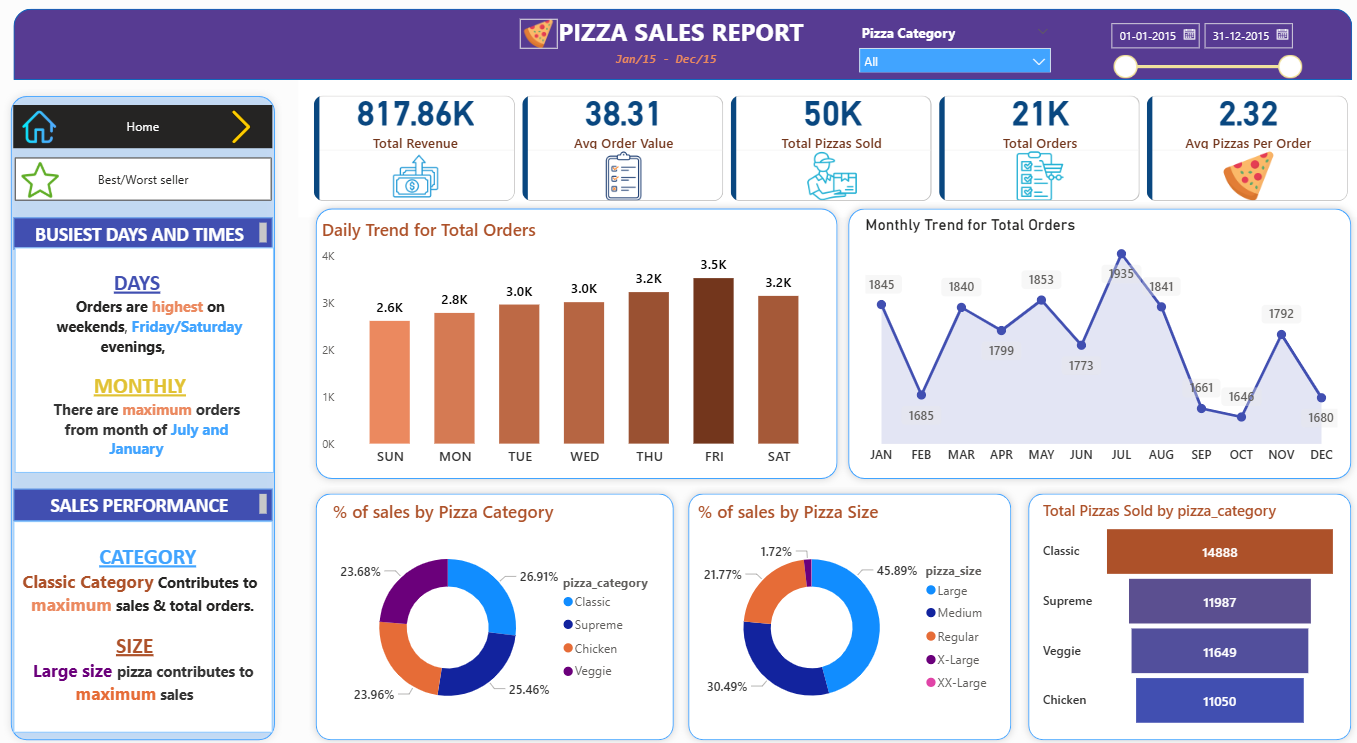

This screenshot's page, from the dashboard's own definition file:
{"tool":"powerbi","page":{"name":"Home","canvas":[1500,820],"ordinal":0},"visuals":[{"type":"cardVisual","fields":{"Data":["pizza_sales.Total Revenue","pizza_sales.Avg Order Value","pizza_sales.Total Pizzas Sold","pizza_sales.Total Orders","pizza_sales.Avg Pizzas Per Order"]},"box":[335.2,92.7,1165.1,149.9],"z":0},{"type":"shape","box":[13.6,102.2,303.9,718.1],"z":1000},{"type":"shape","box":[24.5,15,1459.4,77.7],"z":2000},{"type":"textbox","box":[24.5,242.6,282.1,35.4],"z":3000},{"type":"textbox","box":[607.7,16.4,288.9,53.1],"z":4000},{"type":"textbox","box":[675.9,54.5,121.3,30],"z":5000},{"type":"image","box":[576.4,25.9,40.9,32.7],"z":6000},{"type":"shape","box":[346.1,224.8,584.6,310.7],"z":7000},{"type":"columnChart","title":"Daily Trend for Total Orders","fields":{"Y":["pizza_sales.Total Orders"],"Category":["pizza_sales.Order Day"]},"box":[355.7,242.6,560,280.7],"z":8000},{"type":"shape","box":[926.6,224.8,564.1,310.7],"z":9000},{"type":"areaChart","title":"Monthly Trend for Total Orders","fields":{"Category":["pizza_sales.Order Month"],"Y":["pizza_sales.Total Orders"]},"box":[948.4,239.8,524.6,280.7],"z":10000},{"type":"shape","box":[346.1,535.5,406.1,284.8],"z":11000},{"type":"shape","box":[752.2,535.5,367.9,284.8],"z":12000},{"type":"shape","box":[1122.8,535.5,367.9,284.8],"z":13000},{"type":"donutChart","title":"% of sales by Pizza Category","fields":{"Category":["pizza_sales.pizza_category"],"Y":["pizza_sales.Total Revenue"]},"box":[367.9,550.5,369.3,253.5],"z":14000},{"type":"donutChart","title":"% of sales by Pizza Size","fields":{"Category":["pizza_sales.pizza_size"],"Y":["pizza_sales.Total Revenue"]},"box":[765.8,550.5,337.9,253.5],"z":15000},{"type":"funnel","fields":{"Category":["pizza_sales.pizza_category"],"Y":["pizza_sales.Total Pizzas Sold"]},"box":[1141.9,550.5,331.1,253.5],"z":16000},{"type":"textbox","box":[25.9,275.3,282.1,245.3],"z":17000},{"type":"textbox","box":[24.5,573.7,282.1,230.3],"z":18000},{"type":"textbox","box":[24.5,538.2,282.1,35.4],"z":19000},{"type":"slicer","fields":{"Values":["pizza_sales.pizza_category"]},"box":[936.1,25.9,228.9,58.6],"z":20000},{"type":"slicer","fields":{"Values":["pizza_sales.order_date"]},"box":[1208.7,20.4,228.9,72.2],"z":21000},{"type":"pageNavigator","box":[24.5,119.9,282.1,47.7],"z":22000},{"type":"pageNavigator","box":[25.9,177.1,280.7,47.7],"z":23000},{"type":"image","box":[238.5,125.4,69.5,36.8],"z":24000},{"type":"image","box":[28.6,125.4,47.7,36.8],"z":25000},{"type":"image","box":[30,181.2,47.7,40.9],"z":26000}]}

Visuals, with their boxes in screenshot pixels (x1, y1, x2, y2), scaled from the page's 1500x820 canvas onto the 1357x743 screenshot:
cardVisual - pizza_sales.Total Revenue x pizza_sales.Avg Order Value: (303, 84, 1356, 220)
shape: (12, 93, 287, 742)
shape: (22, 14, 1342, 84)
textbox: (22, 220, 277, 252)
textbox: (550, 15, 811, 63)
textbox: (611, 49, 721, 77)
image: (521, 23, 558, 53)
shape: (313, 204, 842, 485)
"Daily Trend for Total Orders" columnChart: (322, 220, 828, 474)
shape: (838, 204, 1349, 485)
"Monthly Trend for Total Orders" areaChart: (858, 217, 1333, 472)
shape: (313, 485, 680, 742)
shape: (680, 485, 1013, 742)
shape: (1016, 485, 1349, 742)
"% of sales by Pizza Category" donutChart: (333, 499, 667, 729)
"% of sales by Pizza Size" donutChart: (693, 499, 998, 729)
funnel - pizza_sales.pizza_category x pizza_sales.Total Pizzas Sold: (1033, 499, 1333, 729)
textbox: (23, 249, 279, 472)
textbox: (22, 520, 277, 729)
textbox: (22, 488, 277, 520)
slicer - pizza_sales.pizza_category: (847, 23, 1054, 77)
slicer - pizza_sales.order_date: (1093, 18, 1301, 84)
pageNavigator: (22, 109, 277, 152)
pageNavigator: (23, 160, 277, 204)
image: (216, 114, 279, 147)
image: (26, 114, 69, 147)
image: (27, 164, 70, 201)
